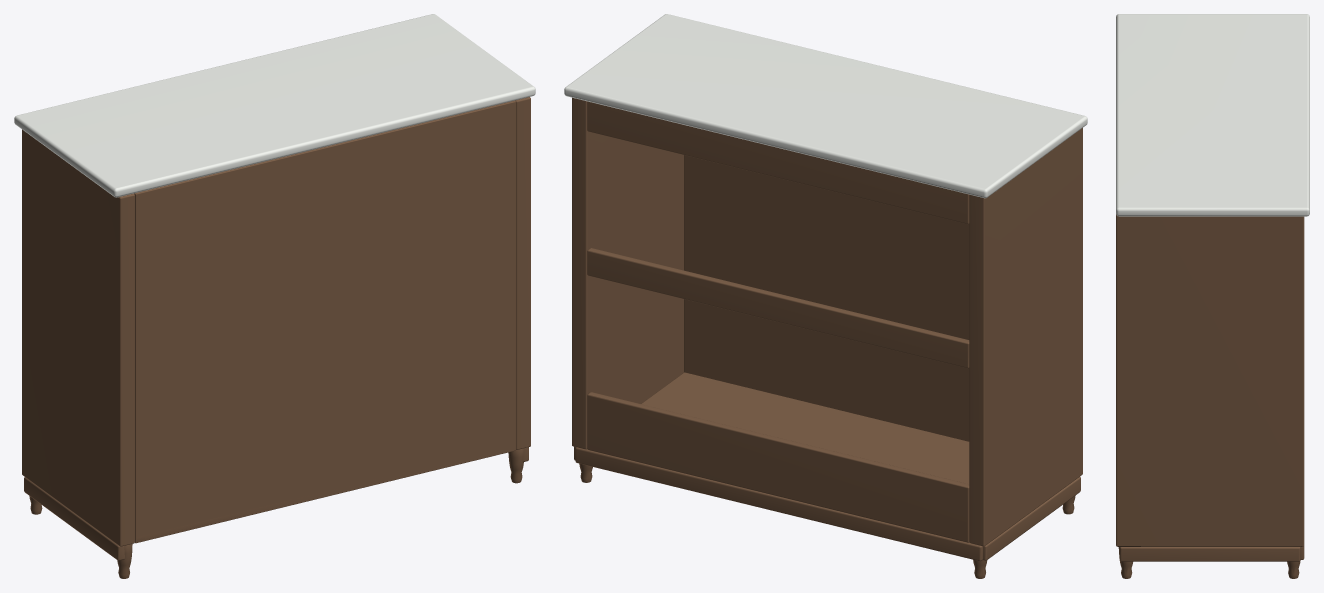
File: lp_case_dresser.glb
The picture shows the model from 3 angles, left to right: view 1: azimuth 30°, elevation 25°; view 2: azimuth 150°, elevation 25°; view 3: azimuth 270°, elevation 25°; orthographic projection. The views are drawn at different scales.
Parts seen in each view (by area): view 1: lp_case_dresser; view 2: lp_case_dresser; view 3: lp_case_dresser.
Boxes of the visible parts, x1,y1,x2,y2 form: lp_case_dresser: (14,14,535,578); lp_case_dresser: (564,14,1087,578); lp_case_dresser: (1116,14,1309,578).
Bounding box in the file's own units: 1.23 × 1.1 × 0.515.
